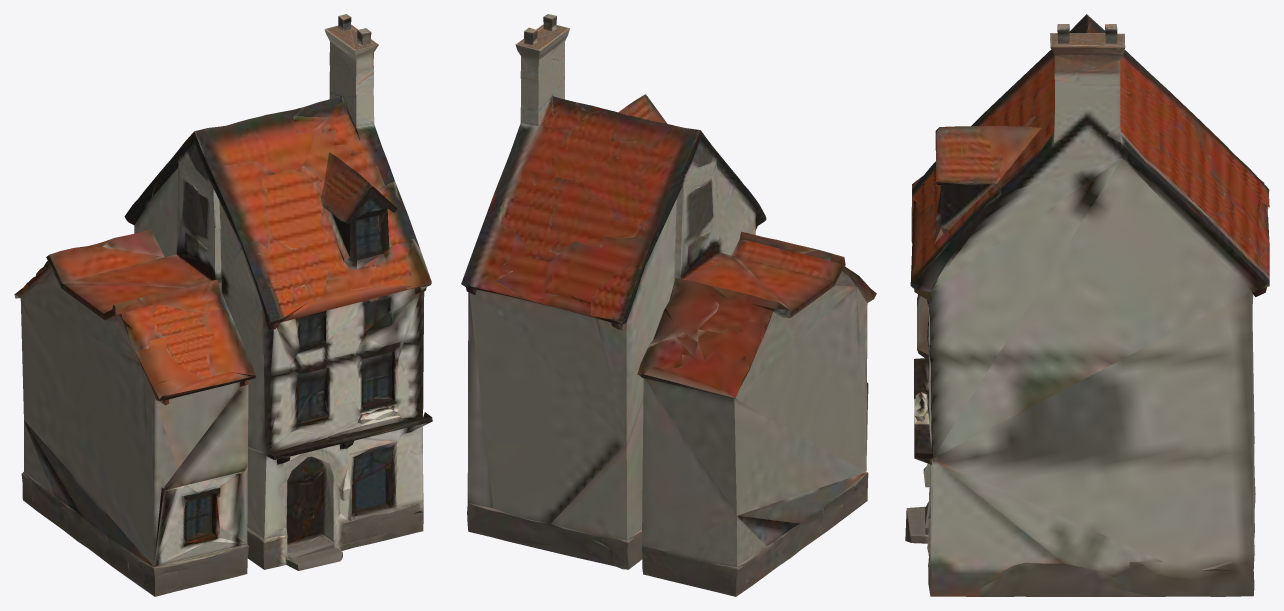
The model's file is burgher.glb.
The picture shows the model from 3 angles, left to right: view 1: azimuth 30°, elevation 25°; view 2: azimuth 150°, elevation 25°; view 3: azimuth 270°, elevation 25°; orthographic projection. The views are drawn at different scales.
Bounding box in the file's own units: 1.22 × 1.9 × 1.11.
Materials: 1 (1 with a texture image).
